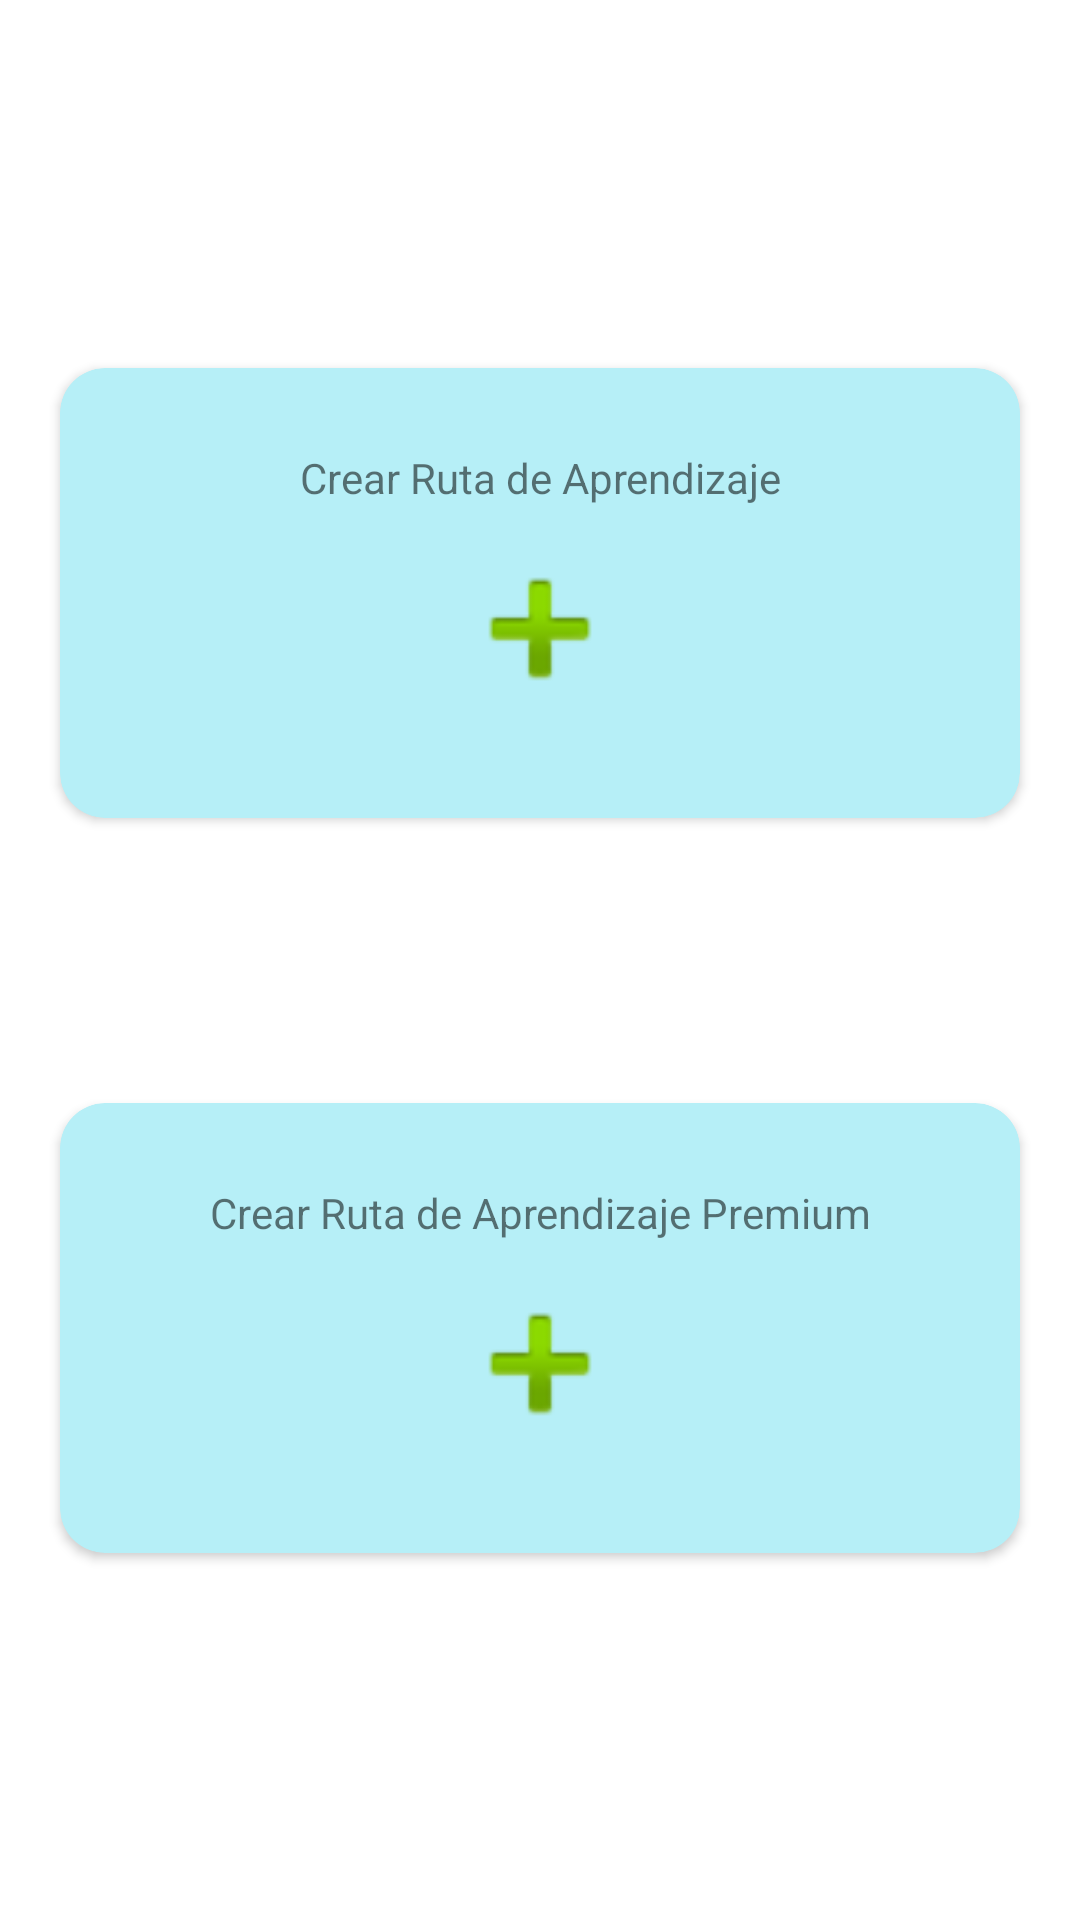

Point at icon controls on the screen. Image size 1080×1920, points as [x,y].
add: [540,629], [540,1364]
